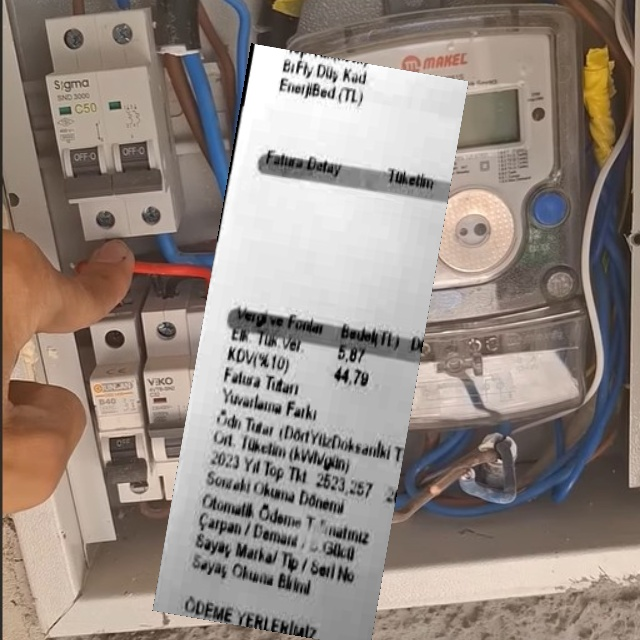electricity-bill: (152, 43, 468, 640)
